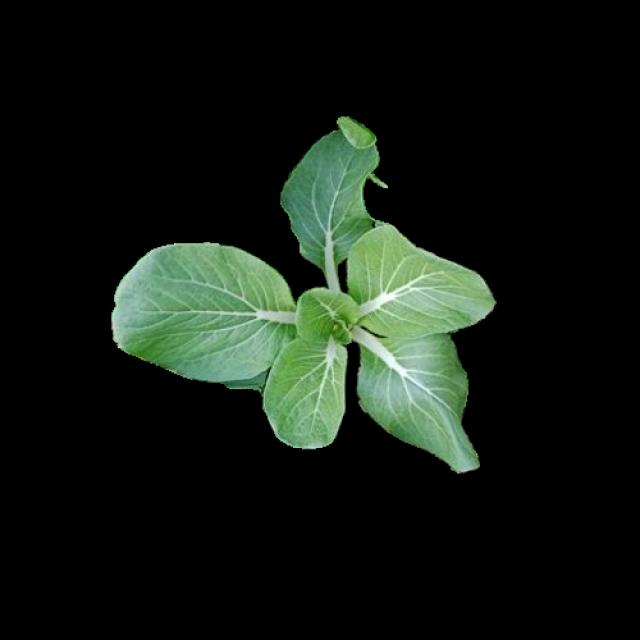healthy: (118, 133, 493, 481)
not-mature: (114, 116, 495, 484)
